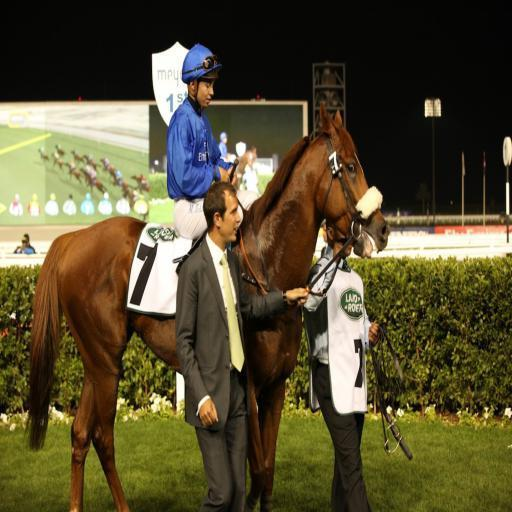horse: (26, 100, 390, 512), (220, 142, 259, 197), (124, 177, 146, 224), (81, 164, 106, 196), (98, 156, 114, 184), (132, 174, 150, 198), (50, 148, 66, 172), (68, 160, 82, 184), (113, 174, 128, 192), (38, 146, 50, 166), (72, 147, 84, 166), (55, 146, 67, 158)
